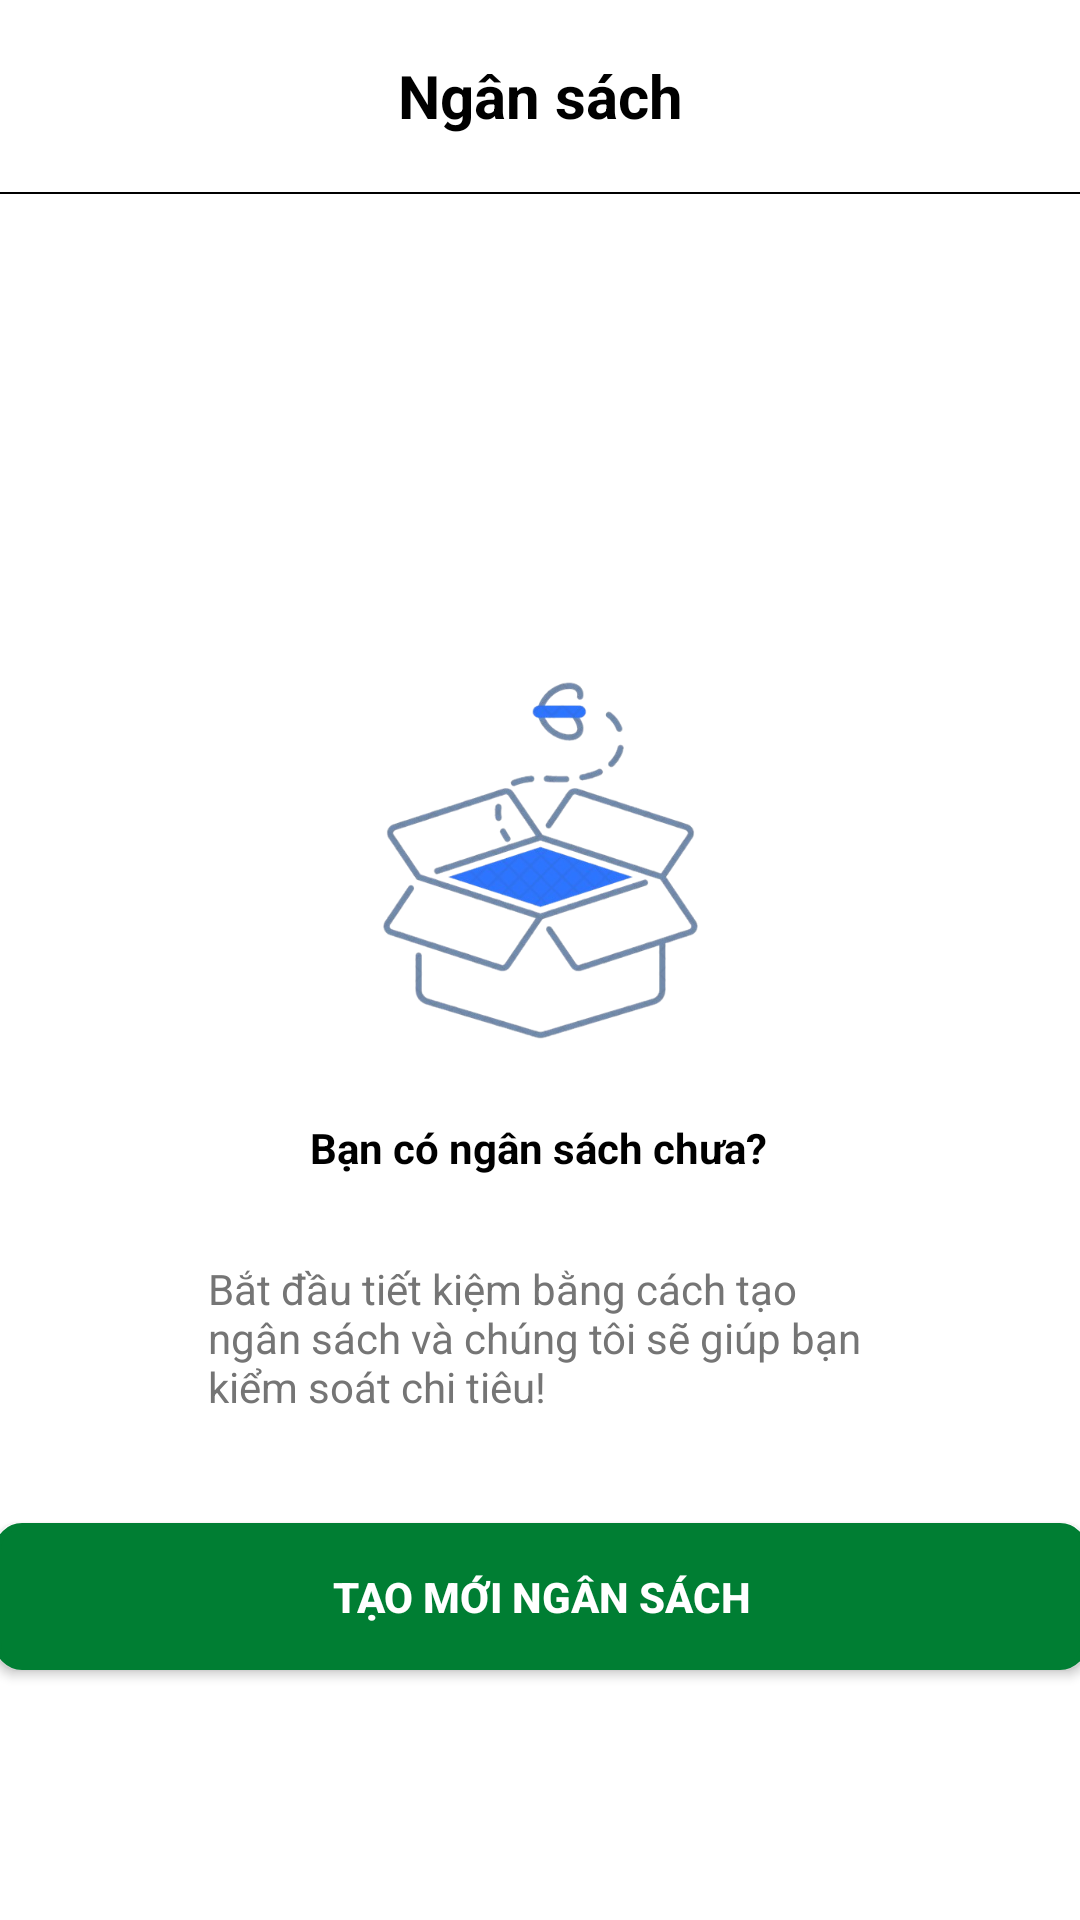

Locate icon controls on the screen. Image size 1080 × 1920, boxes as (x1, y1, x2, y2).
box: (383, 682, 698, 1038)
